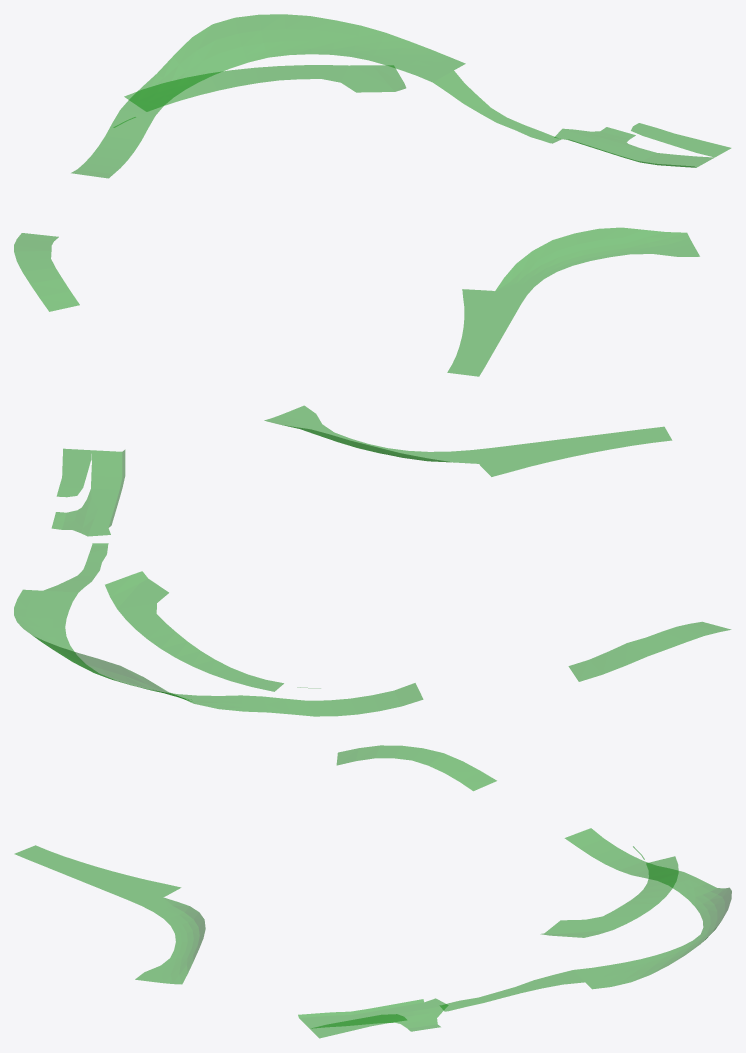
The model's file is road_sand.obj.
3 views of the same model, one above another, from view 1: azimuth 30°, elevation 25°; view 2: azimuth 150°, elevation 25°; view 3: azimuth 270°, elevation 25° (orthographic). The views are drawn at different scales.
Bounding box in the file's own units: 558 × 37.84 × 578.
